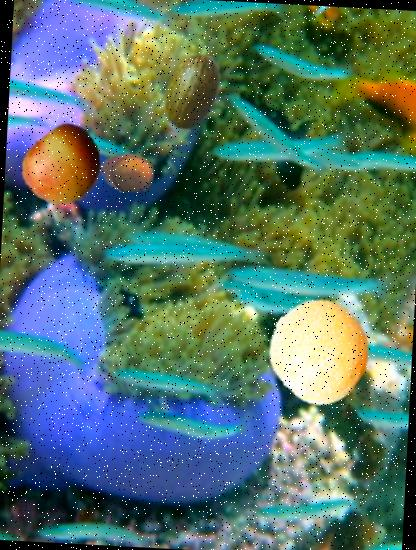Apple: (19, 122, 106, 210)
Cantaloupe: (266, 298, 374, 405)
Hazelnut: (99, 143, 157, 201)
Melon: (152, 50, 235, 133)
